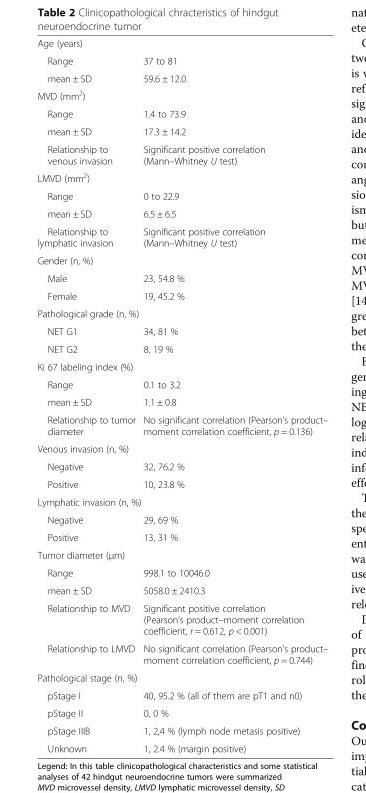table: (36, 37, 327, 753)
table column: (138, 37, 327, 753), (36, 37, 138, 753)
table projected row header: (36, 86, 327, 104), (36, 168, 327, 186), (36, 304, 327, 322), (36, 357, 327, 375), (36, 439, 327, 457), (36, 492, 327, 510), (36, 545, 327, 563), (36, 668, 327, 686), (36, 251, 327, 268), (36, 37, 327, 51)
table row: (36, 598, 327, 639), (36, 222, 327, 251), (36, 410, 327, 439), (36, 639, 327, 668), (36, 140, 327, 168), (36, 51, 327, 69), (36, 86, 327, 104), (36, 104, 327, 122), (36, 122, 327, 140), (36, 168, 327, 186), (36, 186, 327, 204), (36, 204, 327, 222), (36, 268, 327, 286), (36, 286, 327, 304), (36, 304, 327, 322), (36, 339, 327, 357), (36, 357, 327, 375), (36, 392, 327, 410), (36, 439, 327, 457), (36, 457, 327, 475), (36, 492, 327, 510), (36, 510, 327, 528), (36, 545, 327, 563), (36, 563, 327, 581), (36, 668, 327, 686), (36, 703, 327, 721), (36, 721, 327, 739), (36, 69, 327, 86), (36, 251, 327, 268), (36, 322, 327, 339), (36, 375, 327, 392), (36, 475, 327, 492), (36, 528, 327, 545), (36, 581, 327, 598), (36, 686, 327, 703), (36, 37, 327, 51), (36, 739, 327, 753)
